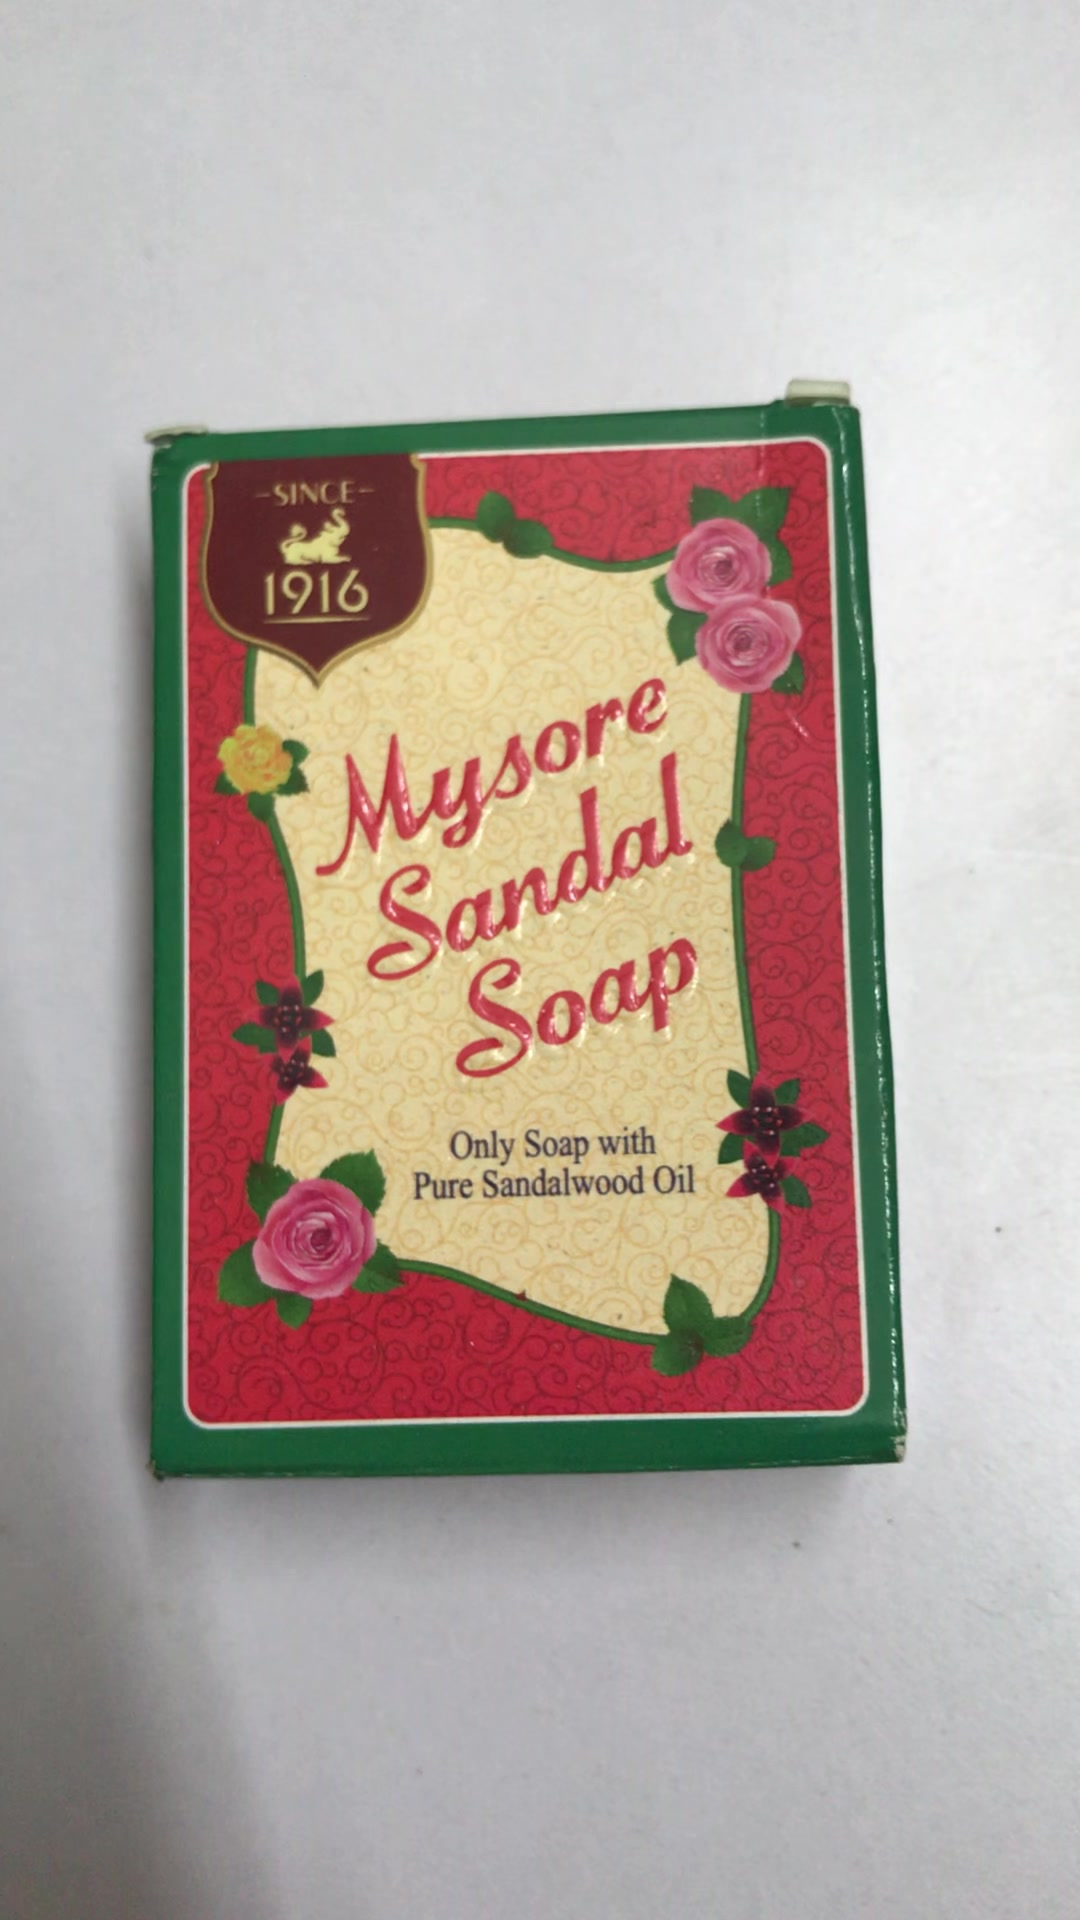mysore sandal soap: (136, 398, 911, 1477)
